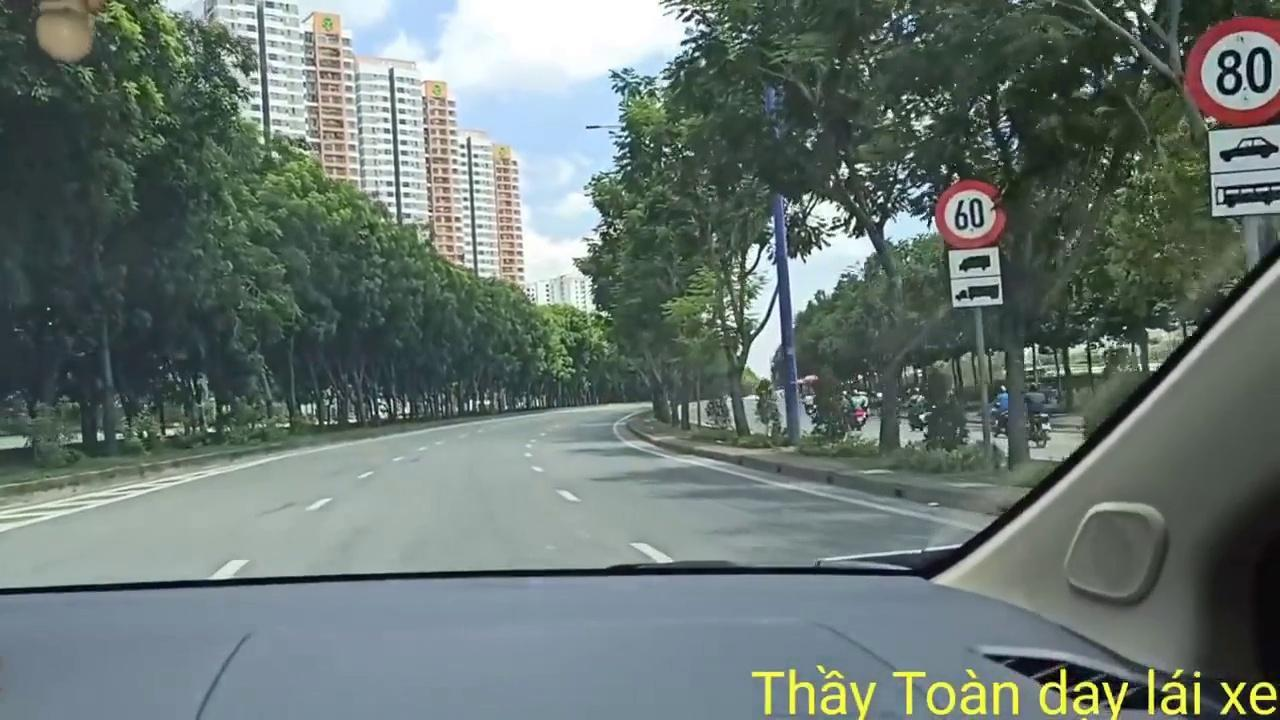Biển phụ: (1206, 130, 1280, 217), (948, 246, 1004, 307)
GIơi hạn tốc độ 60Km/h: (936, 177, 1009, 250)
Giới hạn tốc độ 80Km/h: (1182, 13, 1278, 127)
